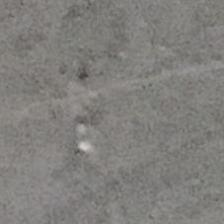Non_Crack: (106, 0, 224, 224)
